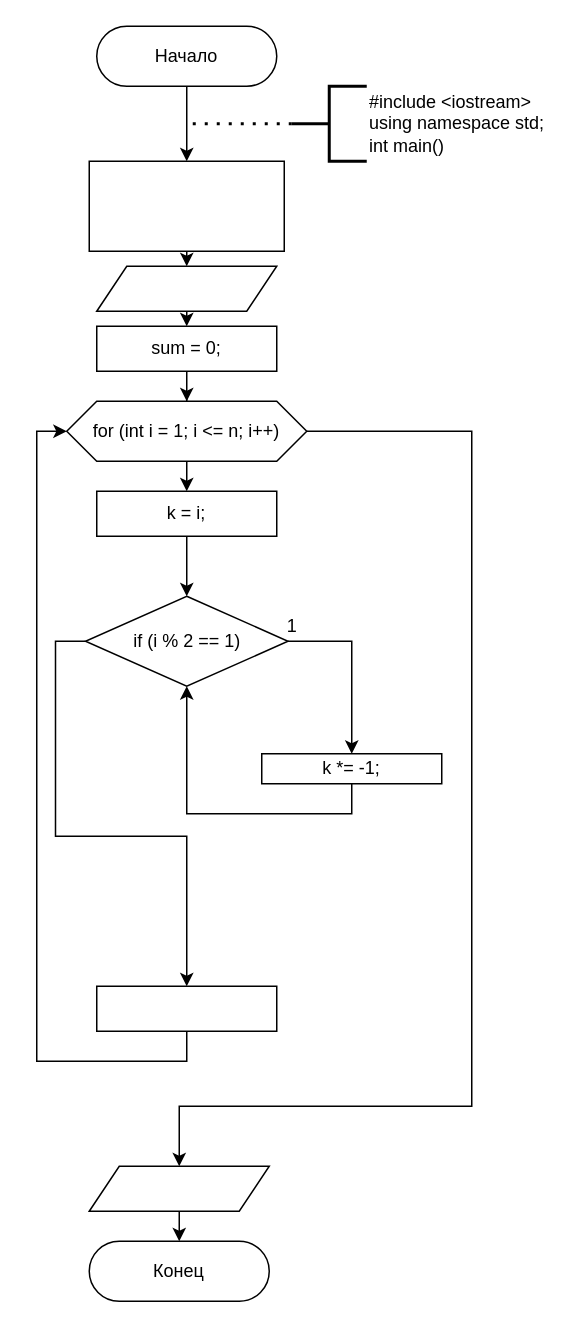
The diagram is 572 pixels wide and 1328 high, and some of its shapes have lost their labels. The shapes that lost their labels are listed below. From the top down, each one's box as (x1, y1, x2, y2) in pixels, then its label:
(88, 160, 284, 251): int n,k,sum;
(95, 265, 277, 311): cin >> n;
(95, 985, 277, 1031): sum += k;
(88, 1165, 269, 1211): cout << sum;
